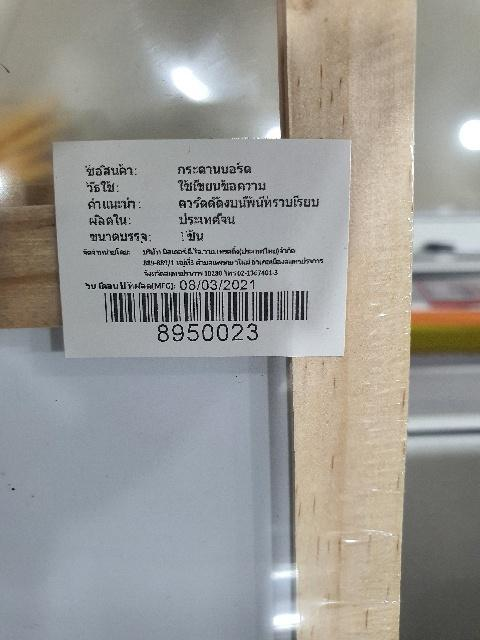Barcode: (95, 286, 320, 347)
